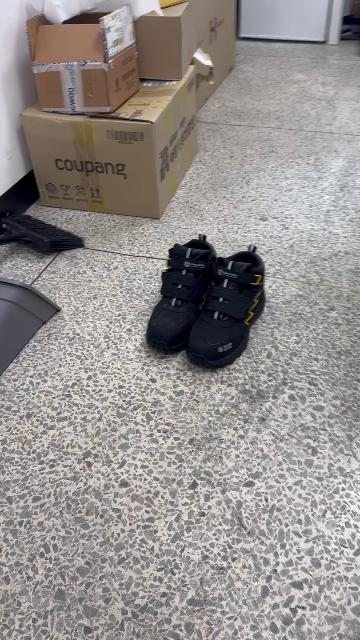shoe_worn: (187, 244, 274, 367), (144, 233, 220, 356)
